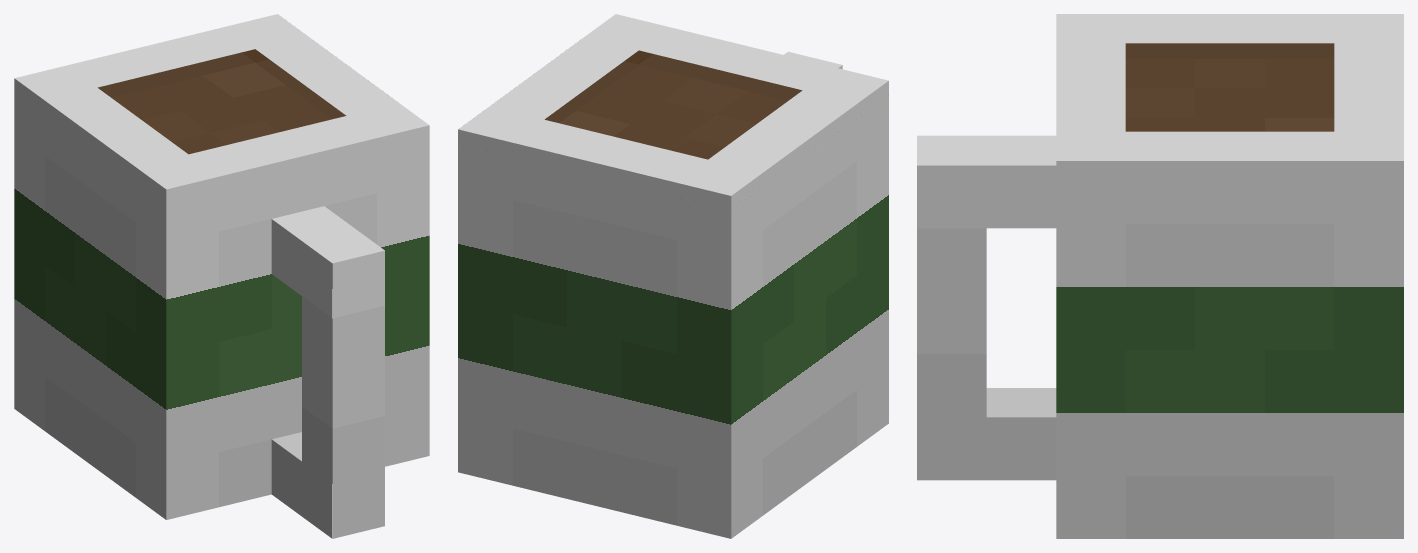
The model's file is coffee-cup.glb.
The picture shows the model from 3 angles, left to right: view 1: azimuth 30°, elevation 25°; view 2: azimuth 150°, elevation 25°; view 3: azimuth 270°, elevation 25°; orthographic projection. The views are drawn at different scales.
Parts seen in each view (by area): view 1: _gltfNode_0, _gltfNode_2, _gltfNode_12, _gltfNode_8, _gltfNode_5; view 2: _gltfNode_0, _gltfNode_2; view 3: _gltfNode_0, _gltfNode_2, _gltfNode_12, _gltfNode_8, _gltfNode_5.
Boxes of the visible parts, bbox=[...] form: _gltfNode_0: bbox=[14, 14, 429, 519]; _gltfNode_2: bbox=[98, 49, 346, 154]; _gltfNode_12: bbox=[302, 296, 384, 483]; _gltfNode_8: bbox=[271, 206, 384, 318]; _gltfNode_5: bbox=[271, 432, 384, 538]; _gltfNode_0: bbox=[458, 14, 888, 538]; _gltfNode_2: bbox=[545, 50, 802, 159]; _gltfNode_0: bbox=[1056, 14, 1403, 538]; _gltfNode_2: bbox=[1125, 43, 1334, 131]; _gltfNode_12: bbox=[917, 228, 986, 417]; _gltfNode_8: bbox=[917, 135, 1056, 228]; _gltfNode_5: bbox=[917, 388, 1056, 480].
Bounding box in the file's own units: 0.3125 × 0.375 × 0.4375.
Materials: 4 (1 with a texture image).
